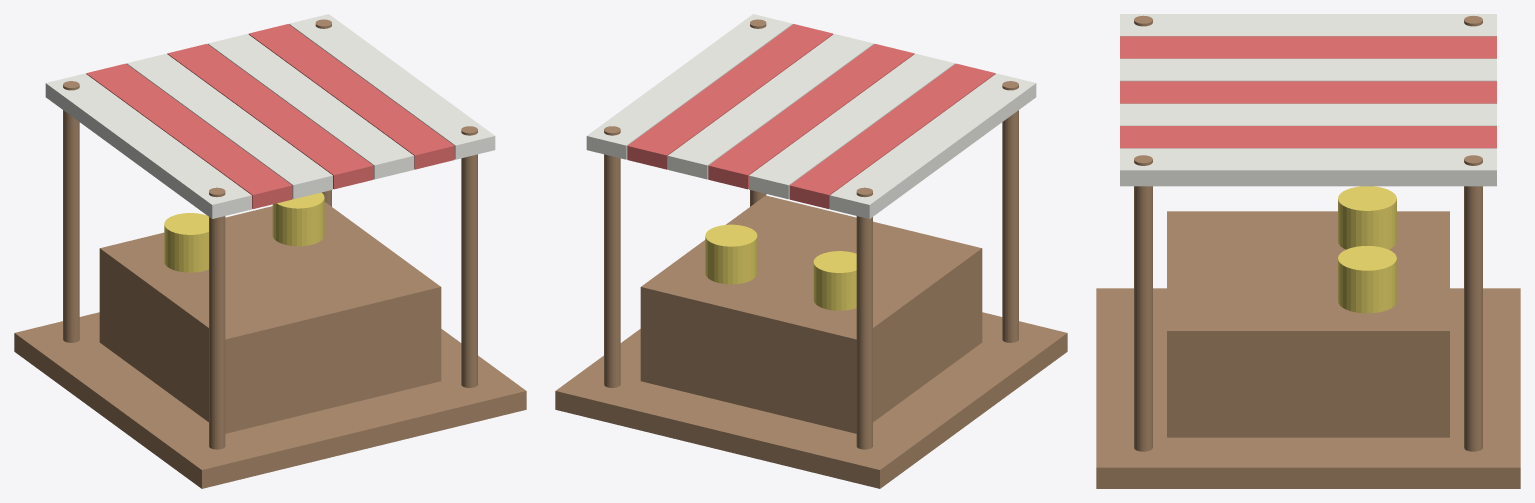
File: market.glb
The picture shows the model from 3 angles, left to right: view 1: azimuth 30°, elevation 25°; view 2: azimuth 150°, elevation 25°; view 3: azimuth 270°, elevation 25°; orthographic projection. The views are drawn at different scales.
Parts seen in each view (by area): view 1: Cube.001, Cube, Cube.002, Cube.006, Cube.003, Cube.004, Cube.005, Cube.007, Cube.008, Cylinder, Cylinder.002, Cylinder.001 (+2 smaller); view 2: Cube.001, Cube, Cube.002, Cube.006, Cube.003, Cube.004, Cube.005, Cube.007, Cube.008, Cylinder.001, Cylinder.003, Cylinder (+2 smaller); view 3: Cube.001, Cube, Cube.008, Cube.004, Cube.003, Cube.005, Cube.006, Cube.007, Cube.002, Cylinder.002, Cylinder.003, Cylinder.005 (+1 smaller).
Boxes of the visible parts, <box> form: Cube.001: <box>99,202,441,433</box>; Cube: <box>14,312,526,488</box>; Cube.002: <box>45,73,251,218</box>; Cube.006: <box>208,34,414,179</box>; Cube.003: <box>86,63,292,208</box>; Cube.004: <box>126,53,332,199</box>; Cube.005: <box>167,44,373,189</box>; Cube.007: <box>248,24,454,169</box>; Cube.008: <box>289,14,495,159</box>; Cylinder: <box>209,187,225,449</box>; Cylinder.002: <box>461,126,477,387</box>; Cylinder.001: <box>63,81,79,342</box>; Cube.001: <box>640,195,982,433</box>; Cube: <box>555,312,1067,488</box>; Cube.002: <box>830,73,1036,218</box>; Cube.006: <box>667,34,873,179</box>; Cube.003: <box>789,63,995,208</box>; Cube.004: <box>749,53,955,199</box>; Cube.005: <box>708,44,914,189</box>; Cube.007: <box>627,24,833,169</box>; Cube.008: <box>586,14,792,159</box>; Cylinder.001: <box>856,187,872,449</box>; Cylinder.003: <box>604,126,620,387</box>; Cylinder: <box>1002,81,1018,342</box>; Cube.001: <box>1167,211,1449,437</box>; Cube: <box>1096,288,1520,488</box>; Cube.008: <box>1120,148,1496,186</box>; Cube.004: <box>1120,58,1496,81</box>; Cube.003: <box>1120,36,1496,58</box>; Cube.005: <box>1120,81,1496,103</box>; Cube.006: <box>1120,103,1496,125</box>; Cube.007: <box>1120,126,1496,148</box>; Cube.002: <box>1120,14,1496,36</box>; Cylinder.002: <box>1134,155,1152,451</box>; Cylinder.003: <box>1464,155,1482,451</box>; Cylinder.005: <box>1338,246,1396,313</box>.
Size of the model in its own units: 3.6 by 2.9 by 3.6.
